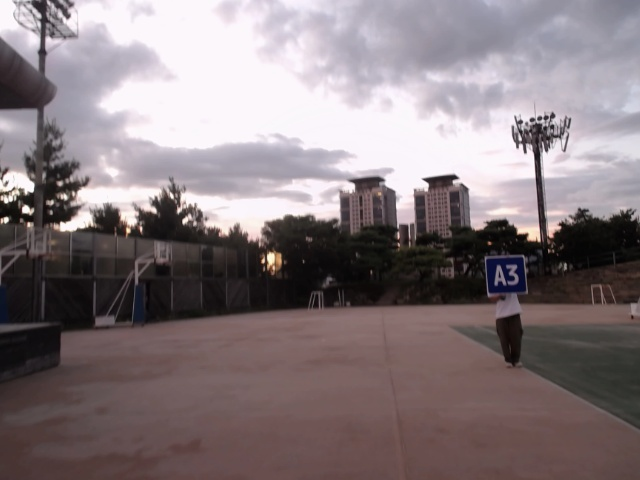delivery_a3: (485, 256, 525, 295)
